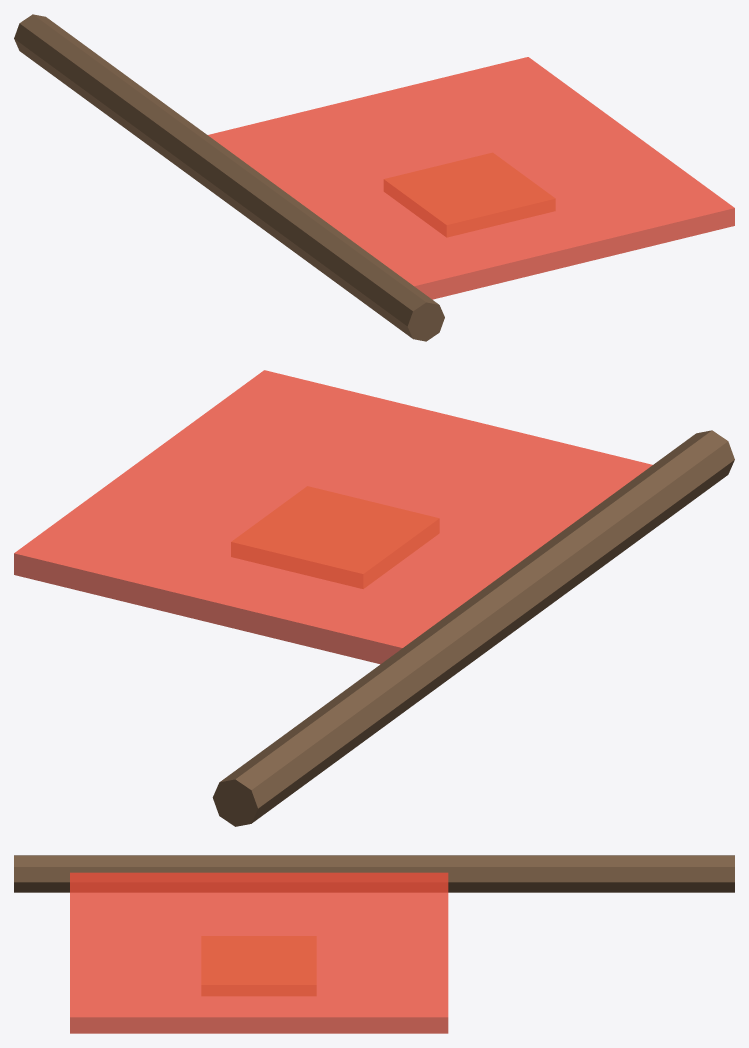
File: sky_warden_banner.glb
3 views of the same model, one above another, from view 1: azimuth 30°, elevation 25°; view 2: azimuth 150°, elevation 25°; view 3: azimuth 270°, elevation 25° (orthographic). The views are drawn at different scales.
Parts seen in each view (by area): view 1: banner_cloth, banner_pole, emblem; view 2: banner_cloth, banner_pole, emblem; view 3: banner_cloth, banner_pole, emblem.
Boxes of the visible parts, x1,y1,x2,y2 form: banner_cloth: [208, 57, 734, 299]; banner_pole: [14, 14, 444, 341]; emblem: [384, 153, 554, 236]; banner_cloth: [14, 370, 652, 664]; banner_pole: [212, 430, 734, 826]; emblem: [231, 486, 438, 588]; banner_cloth: [70, 872, 448, 1033]; banner_pole: [14, 855, 734, 892]; emblem: [202, 936, 315, 995].
Size of the model in its own units: 1.05 by 0.1125 by 2.
